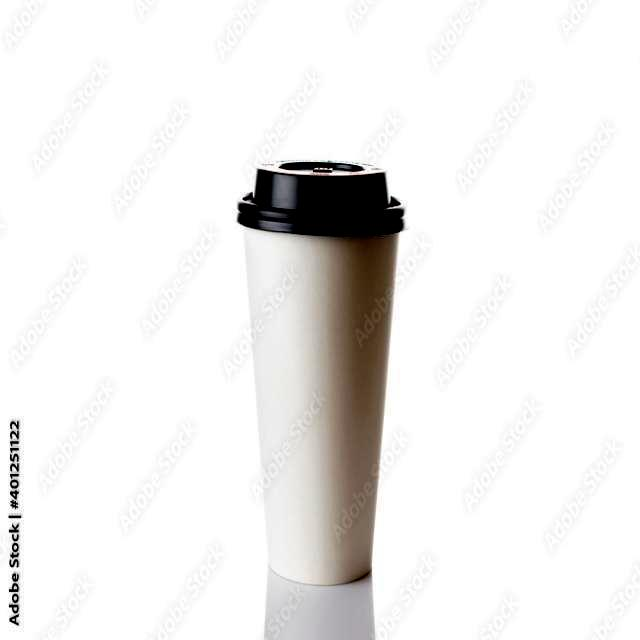Coffee Cup: (234, 157, 406, 587)
